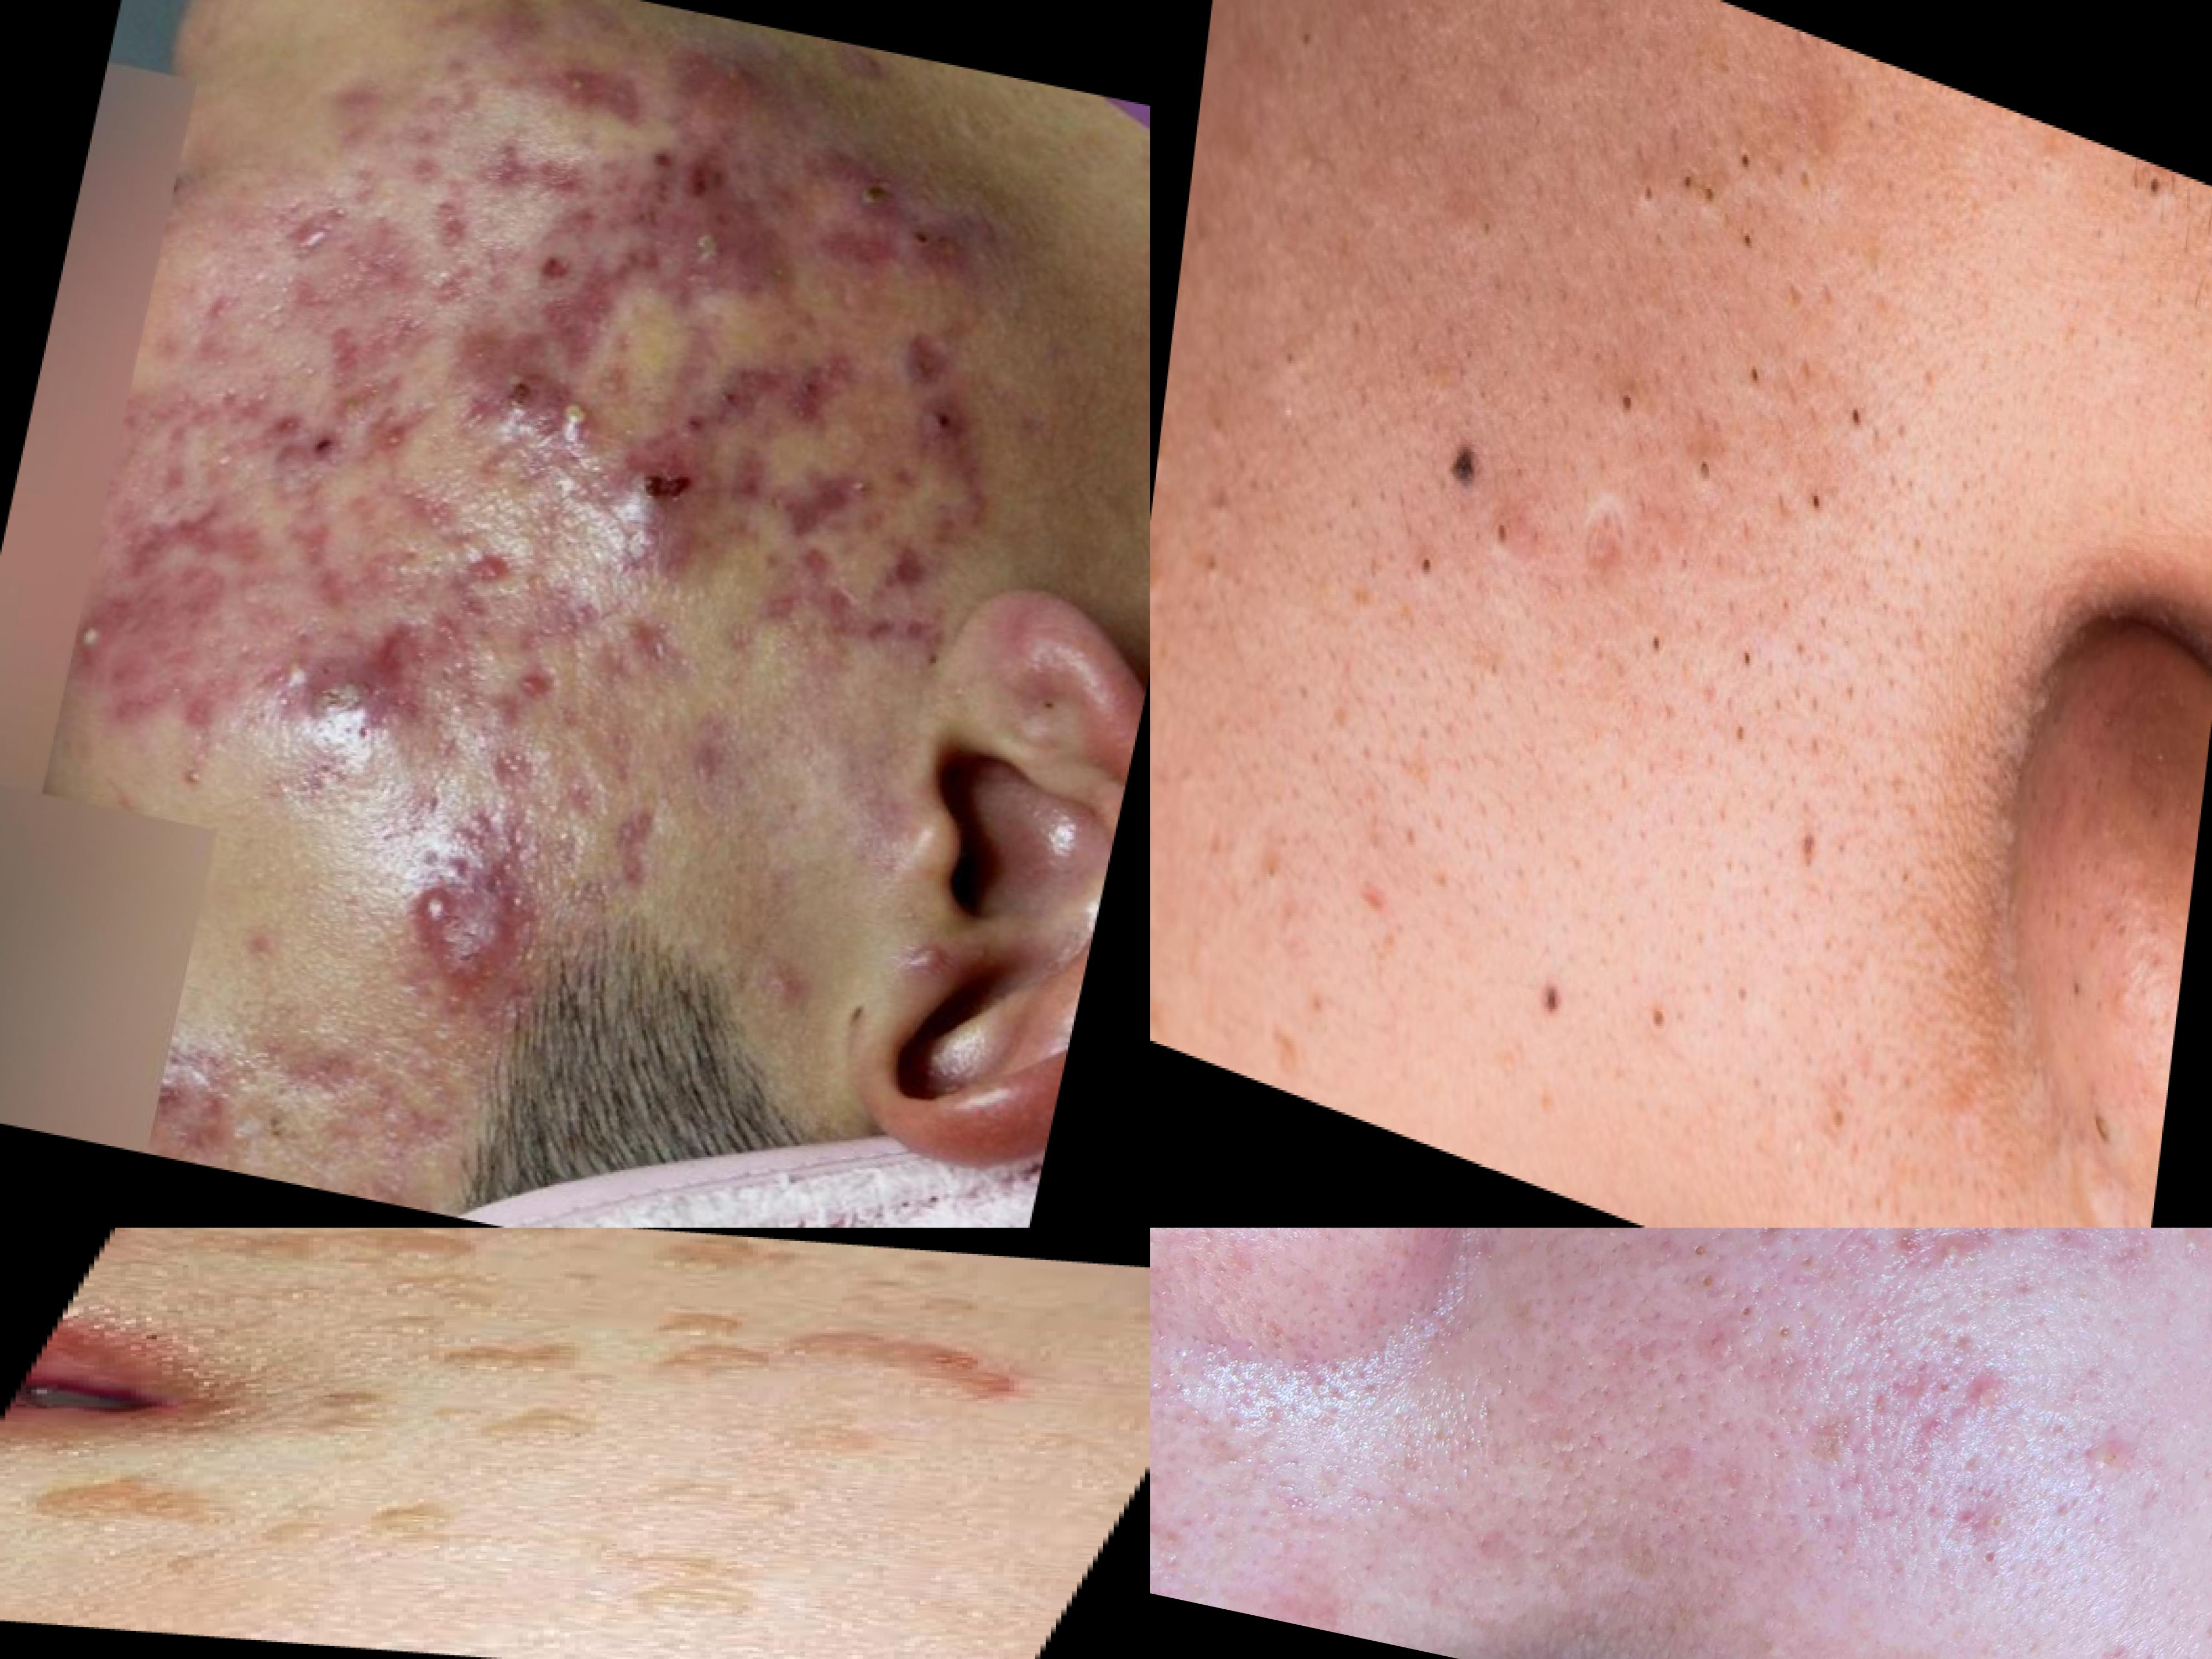acne_scars: (105, 458, 301, 591), (578, 786, 700, 917), (772, 434, 890, 556), (550, 49, 688, 152), (474, 120, 597, 209), (838, 606, 972, 680), (874, 526, 970, 610), (1576, 486, 1632, 626), (1338, 826, 1404, 939), (354, 403, 432, 472)
blackhead: (1620, 84, 1784, 289), (1176, 387, 1252, 606), (2057, 1035, 2146, 1178), (1806, 1033, 1879, 1166), (1263, 275, 1329, 418), (1467, 164, 1533, 291), (1832, 364, 1909, 467), (1480, 479, 1547, 598), (1392, 512, 1454, 627), (1623, 591, 1689, 692), (1684, 423, 1740, 526), (256, 1075, 326, 1154), (1247, 819, 1303, 915), (1599, 349, 1648, 457), (1794, 467, 1853, 552), (2121, 160, 2184, 234), (1737, 336, 1787, 413)
flat_wart: (0, 1457, 482, 1596), (162, 1229, 514, 1286), (561, 1544, 791, 1628), (399, 1330, 658, 1401), (599, 1307, 803, 1389), (629, 1232, 853, 1297), (409, 1392, 629, 1453), (270, 1382, 437, 1457)
papular: (2013, 1229, 2212, 1286)
purulent: (49, 579, 174, 695), (399, 859, 482, 967)
sebo-crystan-conglo: (813, 106, 1026, 277), (284, 577, 460, 774), (448, 749, 564, 1033), (637, 155, 824, 301), (596, 423, 756, 592), (444, 328, 631, 471)
